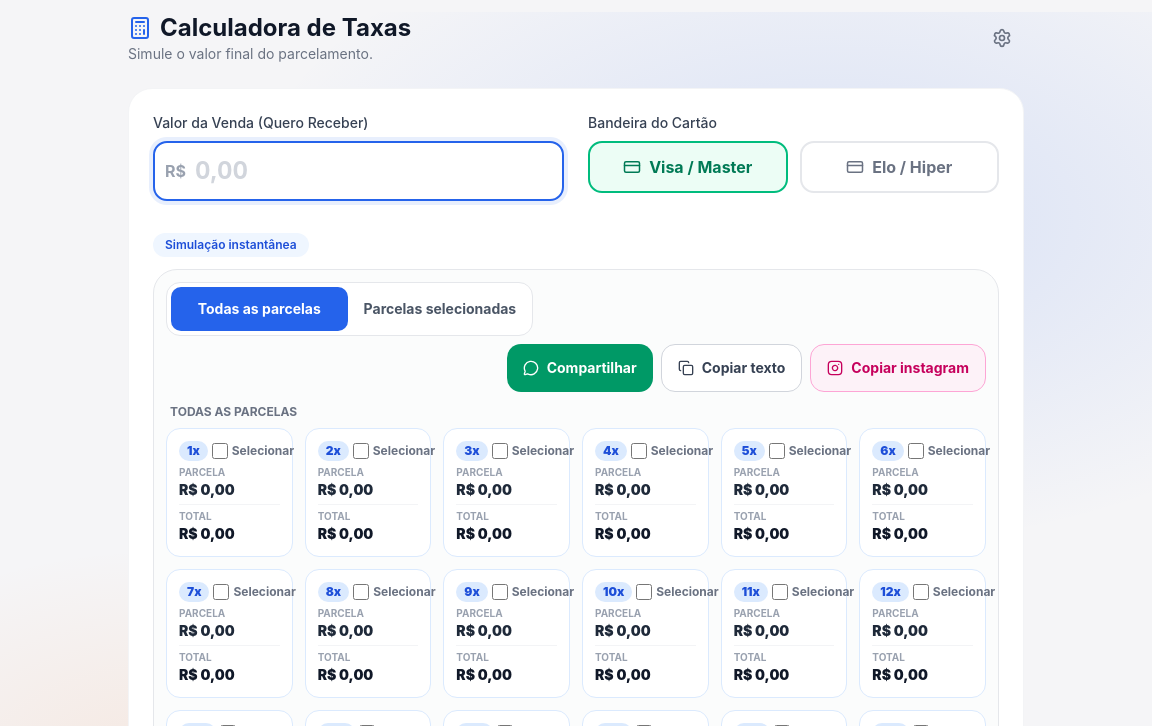
Test: Calculator page › updates the simulation when switching to Elo/Hiper rates
In the field labelled "Valor da Venda (Quero Receber)": (358, 171) [153,141,564,201], type "1000"
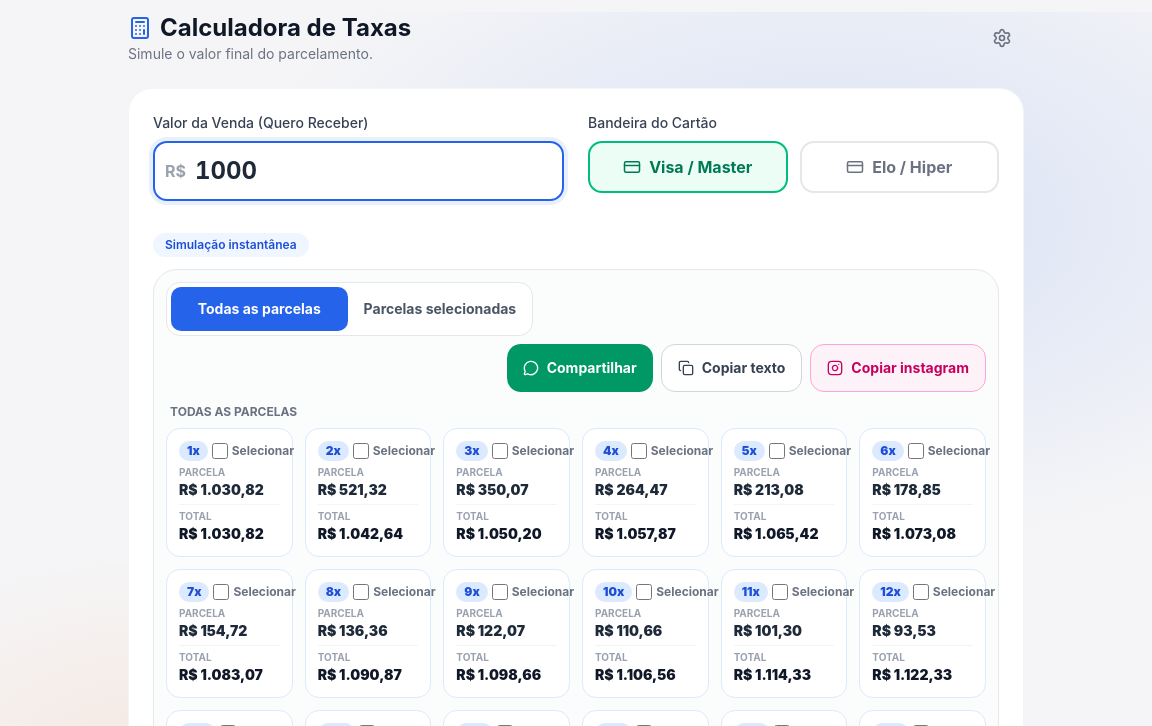
Click the button "Elo / Hiper": (899, 167) [800,141,999,193]
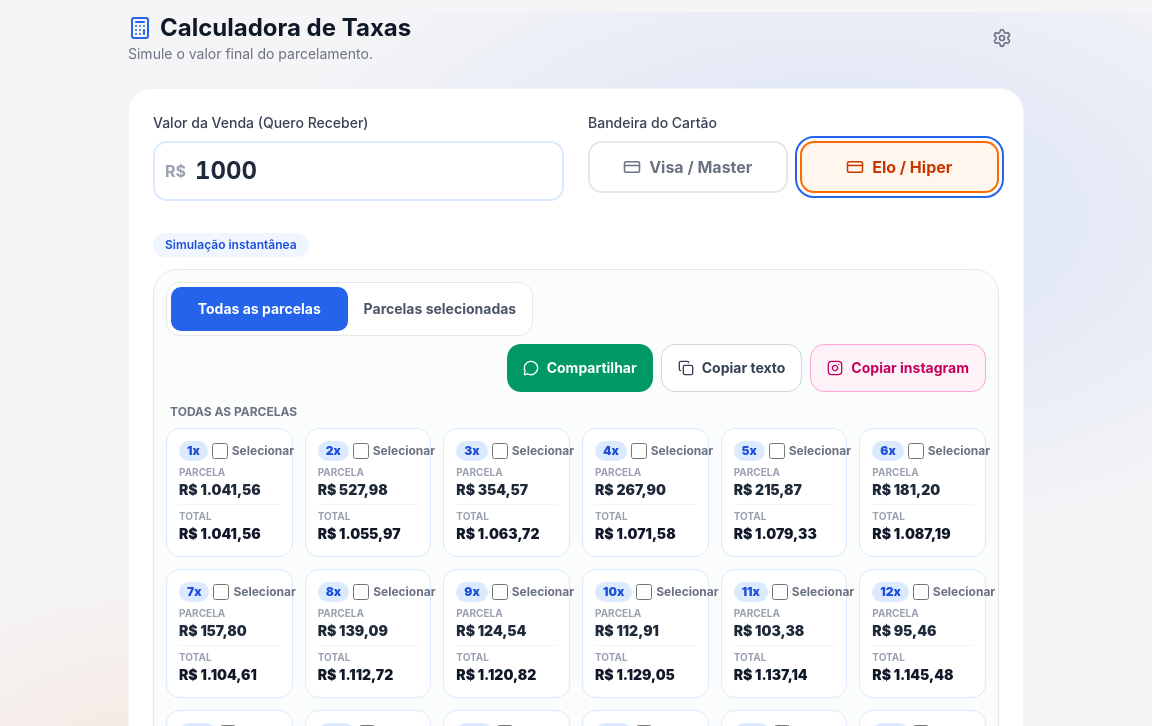
Expected: the 1st text "R$ 1.041,56" is shown, [179,481,261,498]
